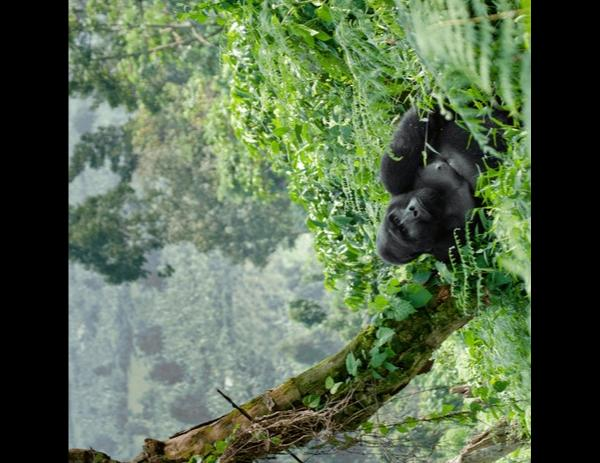goriile_montagne: (372, 66, 502, 287)
